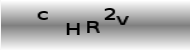2: (103, 7, 116, 21)
H: (64, 22, 81, 36)
R: (85, 19, 101, 34)
c: (36, 10, 50, 21)
v: (115, 15, 131, 26)
